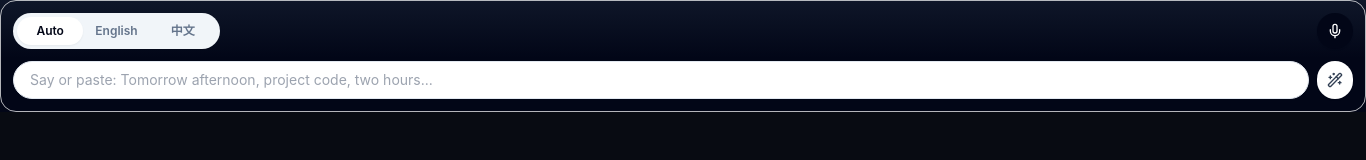
Scenario: VoiceTaskInput › shows a fallback when SpeechRecognition is not supported
This screenshot has width=1366, height=160.
Click the button named "Start voice input": (1335, 31) [1317,13,1353,49]
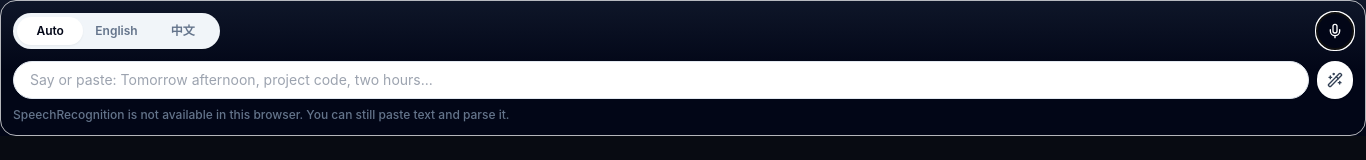
Result: the message shows "SpeechRecognition is not available" at [13,107,510,122]
